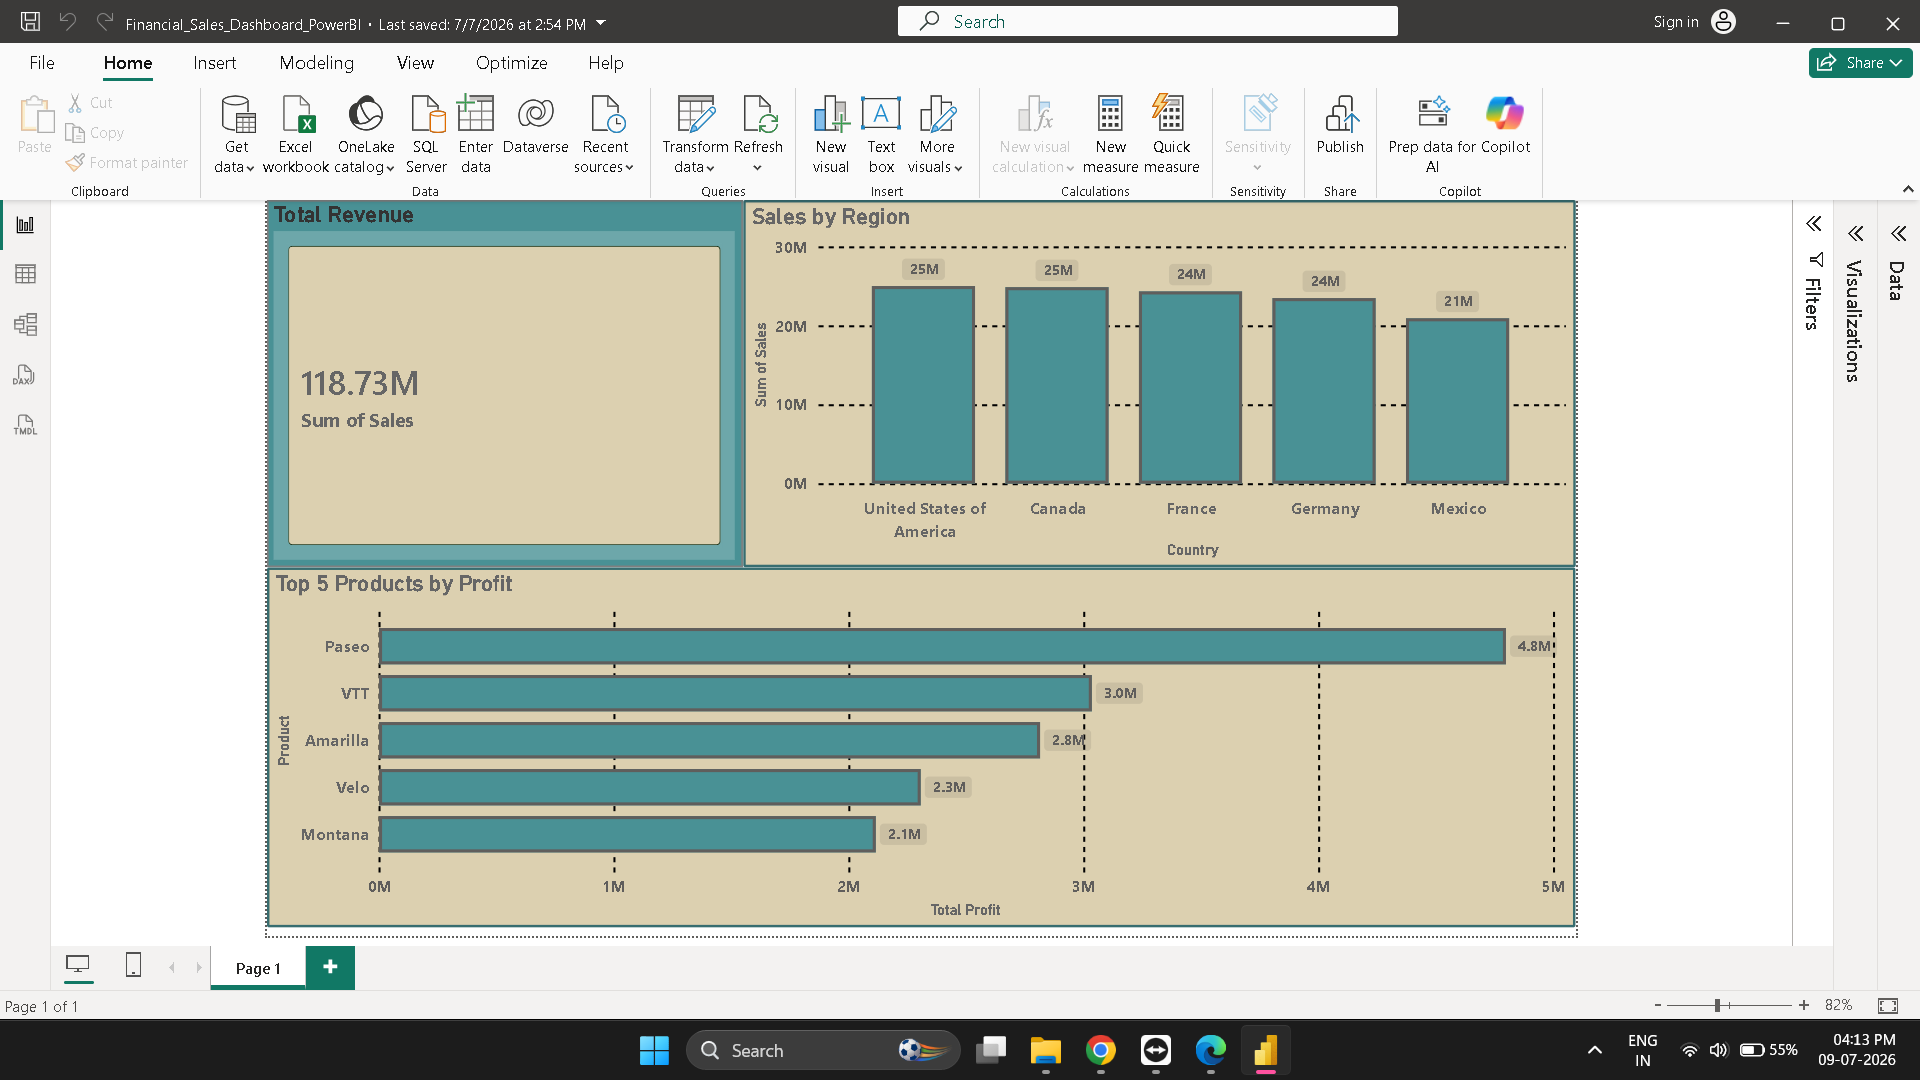

The dashboard page shown, as its layout file describes it:
{"tool":"powerbi","page":{"name":"Page 1","canvas":[1280,720],"ordinal":0},"visuals":[{"type":"clusteredColumnChart","title":"Sales by Region","fields":{"Category":["Sheet1.Country"],"Y":["Sum(Sheet1. Sales)"]},"box":[465.5,0,814.3,359.5],"z":0},{"type":"cardVisual","title":"Total Revenue","fields":{"Data":["Sum(Sheet1. Sales)"]},"box":[0,0,465.5,359.5],"z":1000},{"type":"barChart","title":"Top 5 Products by Profit","fields":{"Category":["Sheet1.Product"],"Y":["Sheet1.Total Profit"]},"box":[0,359.5,1279.8,352.4],"z":2000}]}

Visuals, with their boxes on the page's 1280x720 design canvas (x1, y1, x2, y2). These are canvas units, not pixel positions in the 1920x1080 screenshot, which may show the page scaled, cropped or inside an application window:
"Sales by Region" clusteredColumnChart: 466,0,1280,360
"Total Revenue" cardVisual: 0,0,466,360
"Top 5 Products by Profit" barChart: 0,360,1280,712
